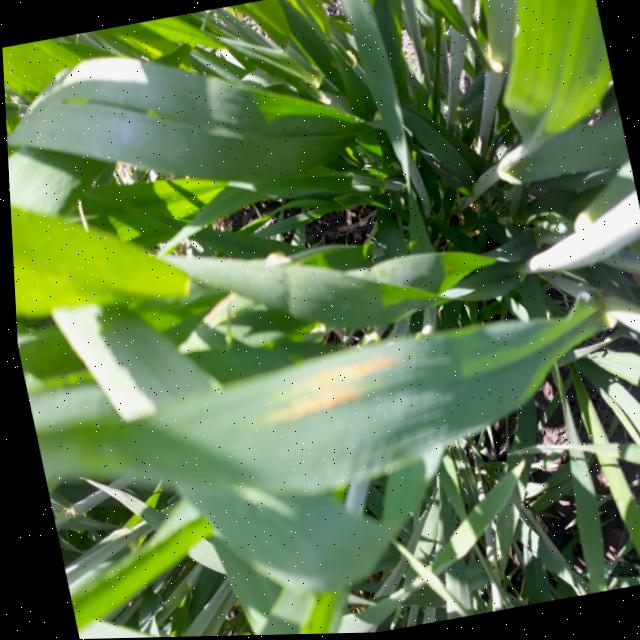yellow_rust: (187, 285, 506, 528)
